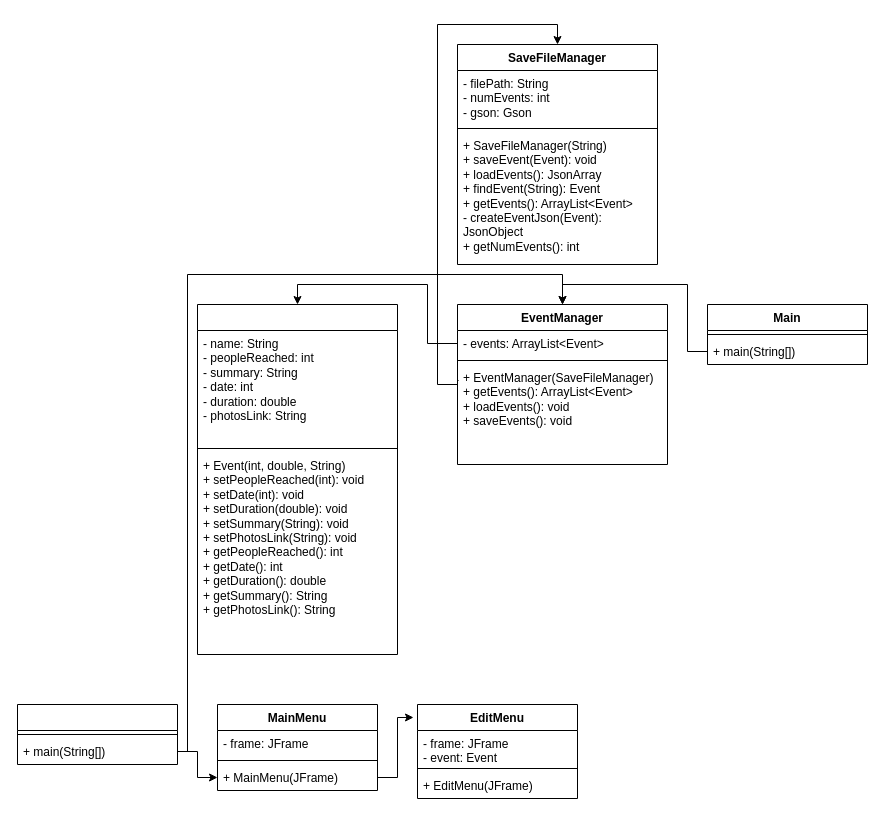
The diagram is 885 pixels wide and 819 high, and some of its shapes have lost their labels. The shapes that lost their labels are listed below. From the top down, each one's box as (x1, y1, x2, y2) in pixels, then its label:
(196, 304, 398, 654): Outreach
(16, 704, 178, 764): UIMain
